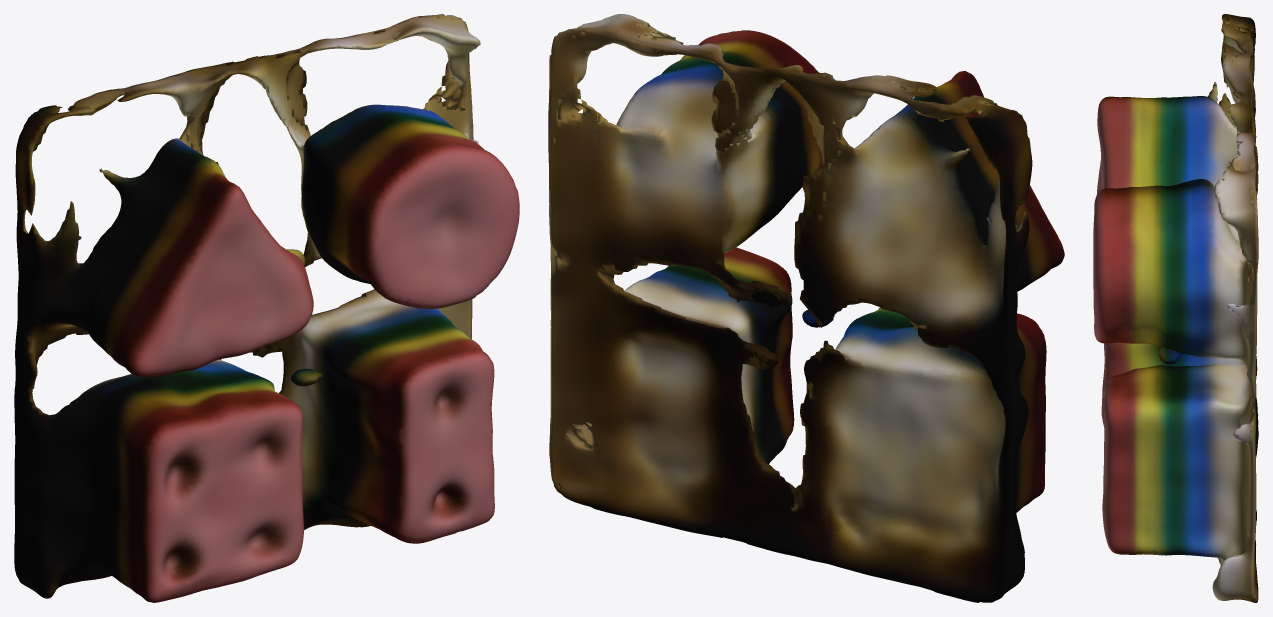
Rendered from sorting_board.glb.
The picture shows the model from 3 angles, left to right: view 1: azimuth 30°, elevation 25°; view 2: azimuth 150°, elevation 25°; view 3: azimuth 270°, elevation 25°; orthographic projection. The views are drawn at different scales.
Size of the model in its own units: 0.991 by 0.9991 by 0.3574.
